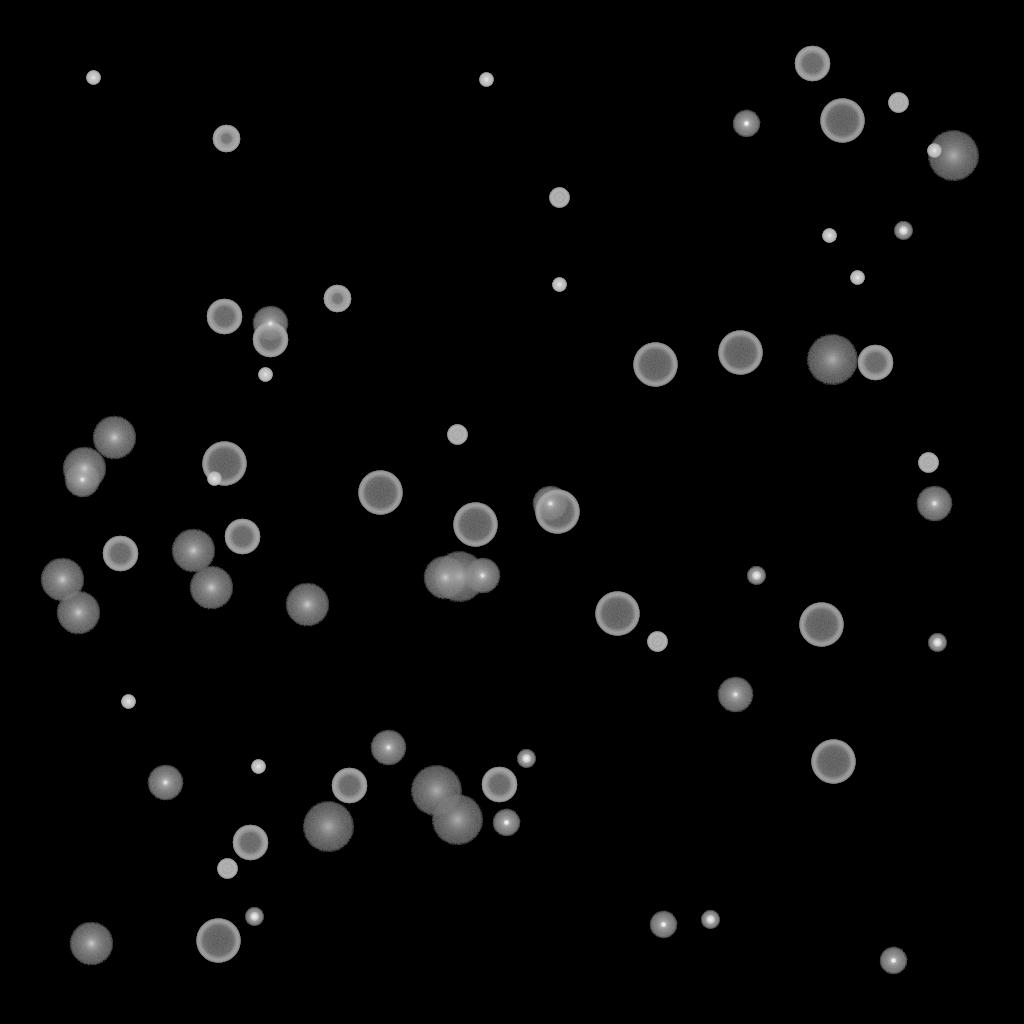depth:-10: (492, 809, 520, 837), (649, 911, 677, 939), (879, 947, 907, 975), (732, 110, 760, 138)
depth:-20: (747, 567, 765, 585), (245, 908, 263, 926), (894, 222, 912, 240), (928, 634, 946, 652), (517, 750, 535, 768), (701, 911, 719, 929)
depth:-30: (822, 229, 836, 243), (258, 368, 272, 382), (850, 271, 864, 285), (121, 695, 135, 709), (479, 73, 493, 87), (927, 144, 941, 158), (251, 760, 265, 774), (86, 71, 100, 85), (207, 472, 221, 486), (552, 278, 566, 292)
depth:-40: (217, 859, 237, 879), (888, 93, 908, 113), (918, 453, 938, 473), (647, 632, 667, 652), (447, 425, 467, 445), (549, 188, 569, 208)
depth:-50: (323, 285, 351, 313), (212, 125, 240, 153)
depth:-60: (481, 767, 517, 803), (794, 46, 830, 82), (102, 536, 138, 572), (331, 768, 367, 804), (252, 322, 288, 358), (206, 299, 242, 335), (857, 345, 893, 381), (224, 519, 260, 555), (232, 825, 268, 861)
depth:-70: (820, 99, 864, 143), (811, 740, 855, 784), (633, 343, 677, 387), (202, 442, 246, 486), (799, 603, 843, 647), (453, 503, 497, 547), (595, 592, 639, 636), (358, 471, 402, 515), (196, 919, 240, 963), (535, 490, 579, 534), (718, 331, 762, 375)
depth:0: (532, 486, 568, 522), (916, 486, 952, 522), (252, 306, 288, 342), (464, 558, 500, 594), (147, 765, 183, 801), (717, 677, 753, 713), (370, 730, 406, 766), (64, 462, 100, 498)
depth:10: (56, 591, 100, 635), (171, 529, 215, 573), (69, 922, 113, 966), (92, 416, 136, 460), (285, 583, 329, 627), (40, 558, 84, 602), (62, 447, 106, 491), (189, 566, 233, 610), (423, 556, 467, 600)
depth:20: (431, 795, 483, 845), (433, 552, 485, 602), (302, 802, 354, 852), (806, 335, 858, 385), (927, 131, 979, 181), (410, 766, 462, 816)
